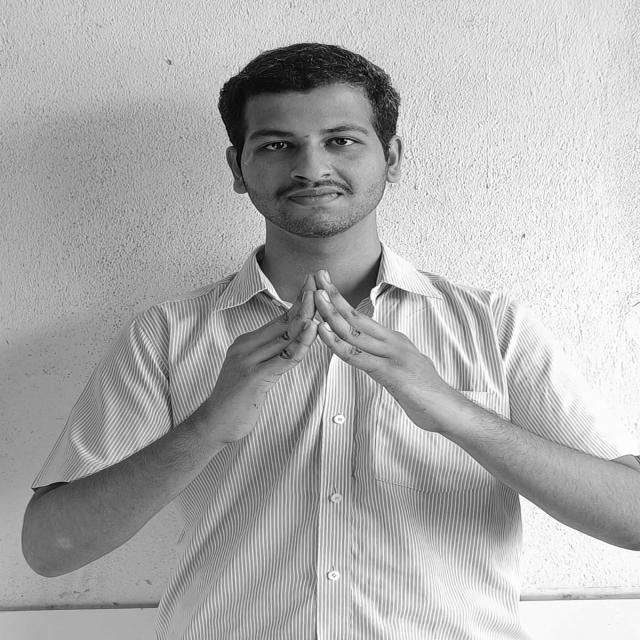Home: (218, 268, 438, 456)
